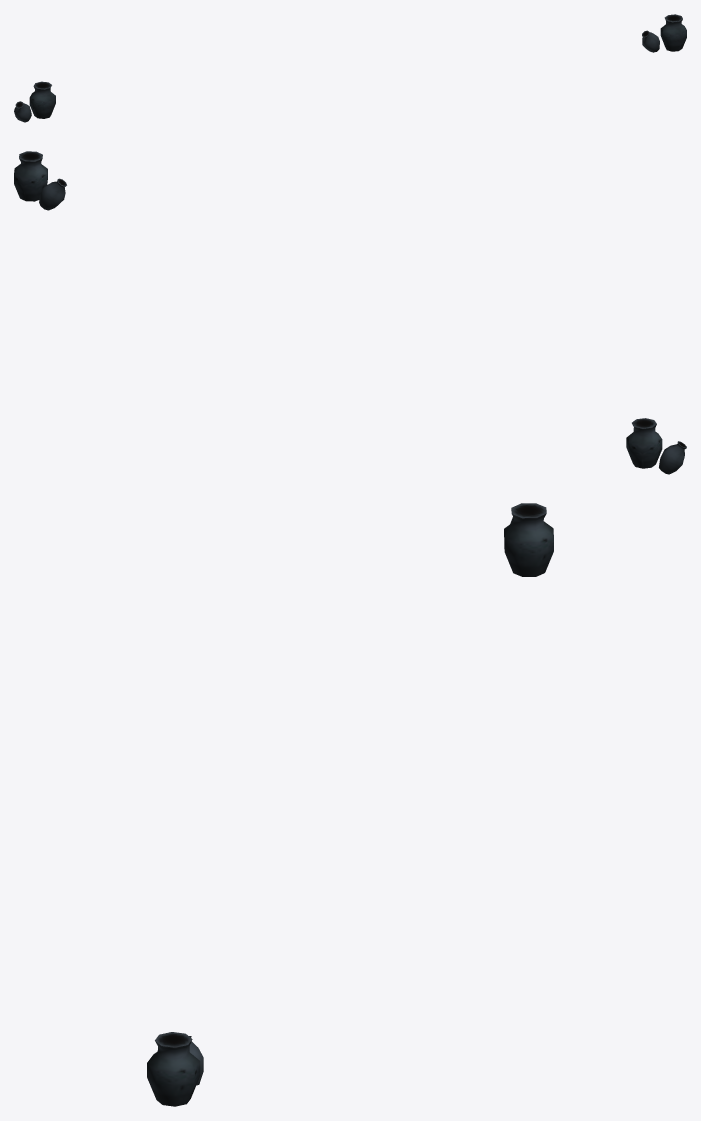
The model's file is Area14_2.fbx.
The picture shows the model from 3 angles, top to bottom: view 1: azimuth 30°, elevation 25°; view 2: azimuth 150°, elevation 25°; view 3: azimuth 270°, elevation 25°; orthographic projection. The views are drawn at different scales.
Visible parts, largest first — view 1: Area14_2; view 2: Area14_2; view 3: Area14_2.
Part boxes in pixels (x1,y1,x2,y2): Area14_2: (14, 14, 686, 122); Area14_2: (14, 151, 686, 474); Area14_2: (147, 503, 553, 1106).
Bounding box in the file's own units: 2111 × 112 × 638.
